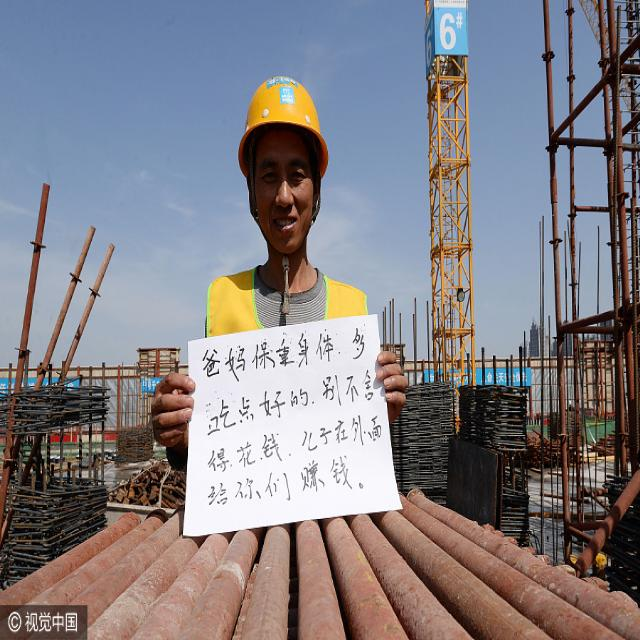Reflective-Jacket: (206, 268, 366, 328)
Safety-Helmet: (236, 71, 331, 162)
